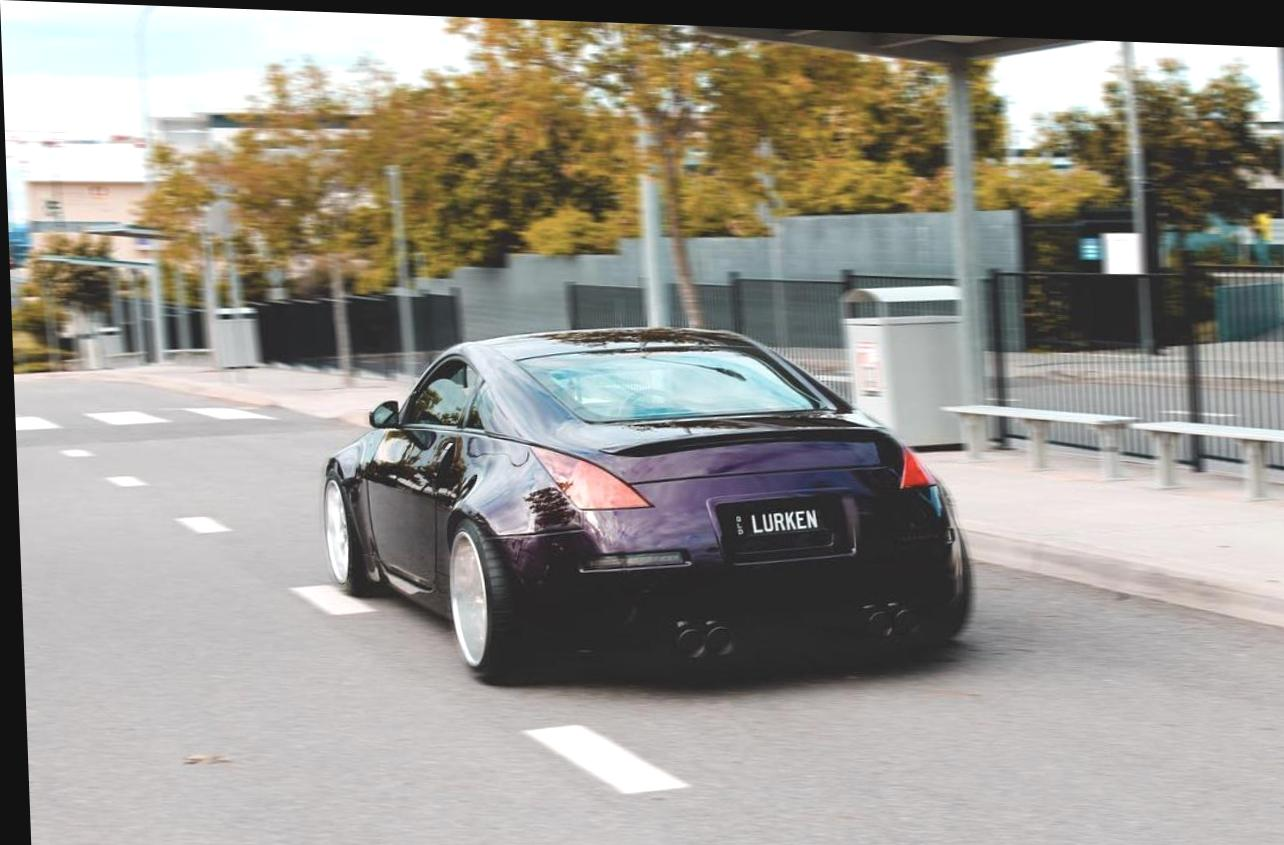License_Plate: (716, 491, 849, 572)
